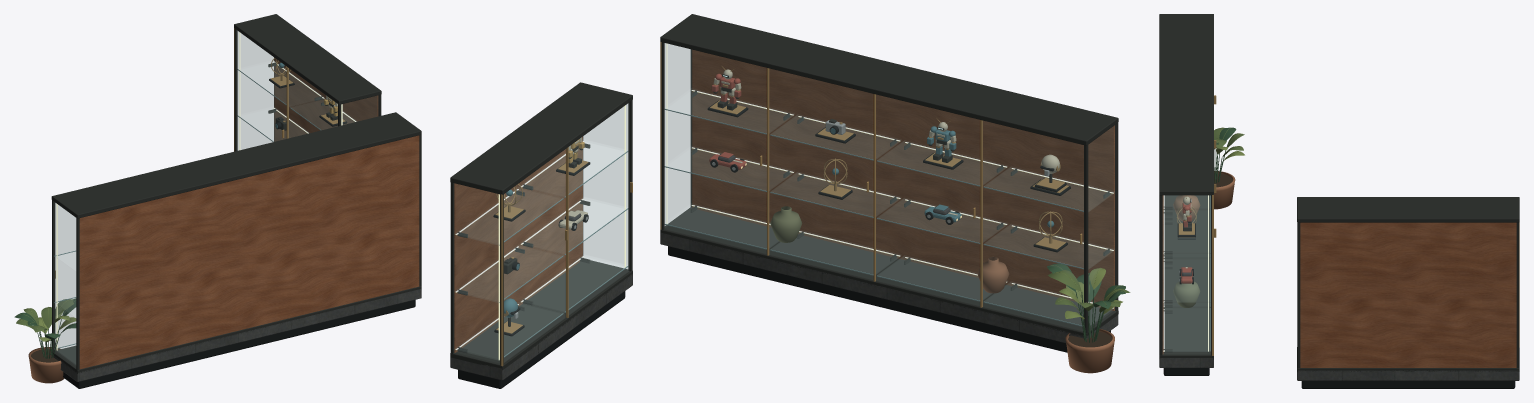
Rendered from collect.glb.
3 views of the same model, side by side, from view 1: azimuth 30°, elevation 25°; view 2: azimuth 150°, elevation 25°; view 3: azimuth 270°, elevation 25° (orthographic). The views are drawn at different scales.
Visible parts, largest first — view 1: collect | M03 | Oiled American walnut, collect | M06 | Powder-coated steel, collect | M07 | Starphire glazing, collect | M05 | Honed slate, collect | M06 | Lacquered graphite, collect | Stacked ceramic clay, collect | Opal diffuser, collect | Patinated brass, collect | M08 | Leaf 0, collect | M08 | Leaf 1, collect | M08 | Leaf 2; view 2: collect | M07 | Starphire glazing, collect | M03 | Oiled American walnut, collect | M06 | Powder-coated steel, collect | M05 | Honed slate, collect | M06 | Lacquered graphite, collect | Patinated brass, collect | Opal diffuser, collect | M07 | Glass cut edge, collect | Stacked ceramic clay, collect | M08 | Leaf 0, collect | Bone enamel, collect | Glazed petrol (+4 smaller); view 3: collect | M03 | Oiled American walnut, collect | M06 | Powder-coated steel, collect | M07 | Starphire glazing, collect | M05 | Honed slate, collect | M06 | Lacquered graphite, collect | Stacked ceramic clay, collect | Patinated brass, collect | Stoneware olive, collect | Opal diffuser, collect | M08 | Leaf 0, collect | M08 | Leaf 1, collect | Oxblood lacquer.
Boxes of the visible parts, x1,y1,x2,y2 form: collect | M03 | Oiled American walnut: (79,58,419,369); collect | M06 | Powder-coated steel: (51,14,421,373); collect | M07 | Starphire glazing: (54,31,376,366); collect | M05 | Honed slate: (52,289,421,381); collect | M06 | Lacquered graphite: (63,76,415,388); collect | Stacked ceramic clay: (28,347,64,383); collect | Opal diffuser: (56,32,356,350); collect | Patinated brass: (55,28,345,278); collect | M08 | Leaf 0: (14,298,76,358); collect | M08 | Leaf 1: (16,299,73,332); collect | M08 | Leaf 2: (17,299,76,342); collect | M07 | Starphire glazing: (454,43,1114,362); collect | M03 | Oiled American walnut: (454,49,1114,352); collect | M06 | Powder-coated steel: (450,14,1118,370); collect | M05 | Honed slate: (450,232,1118,380); collect | M06 | Lacquered graphite: (458,74,1110,388); collect | Patinated brass: (495,42,1082,366); collect | Opal diffuser: (455,43,1113,359); collect | M07 | Glass cut edge: (499,109,1083,360); collect | Stacked ceramic clay: (977,256,1114,373); collect | M08 | Leaf 0: (1047,263,1125,342); collect | Bone enamel: (559,69,1059,229); collect | Glazed petrol: (504,126,1054,317); collect | M03 | Oiled American walnut: (1162,195,1516,367); collect | M06 | Powder-coated steel: (1159,14,1519,371); collect | M07 | Starphire glazing: (1163,195,1210,353); collect | M05 | Honed slate: (1159,358,1519,380); collect | M06 | Lacquered graphite: (1163,198,1515,388); collect | Stacked ceramic clay: (1173,171,1235,221); collect | Patinated brass: (1177,95,1519,355); collect | Stoneware olive: (1173,281,1200,307); collect | Opal diffuser: (1163,195,1208,351); collect | M08 | Leaf 0: (1214,127,1236,183); collect | M08 | Leaf 1: (1214,127,1244,157); collect | Oxblood lacquer: (1181,202,1192,283).
Size of the model in its own units: 5.54 by 2.39 by 4.08.
Materials: 22 (2 with a texture image).
